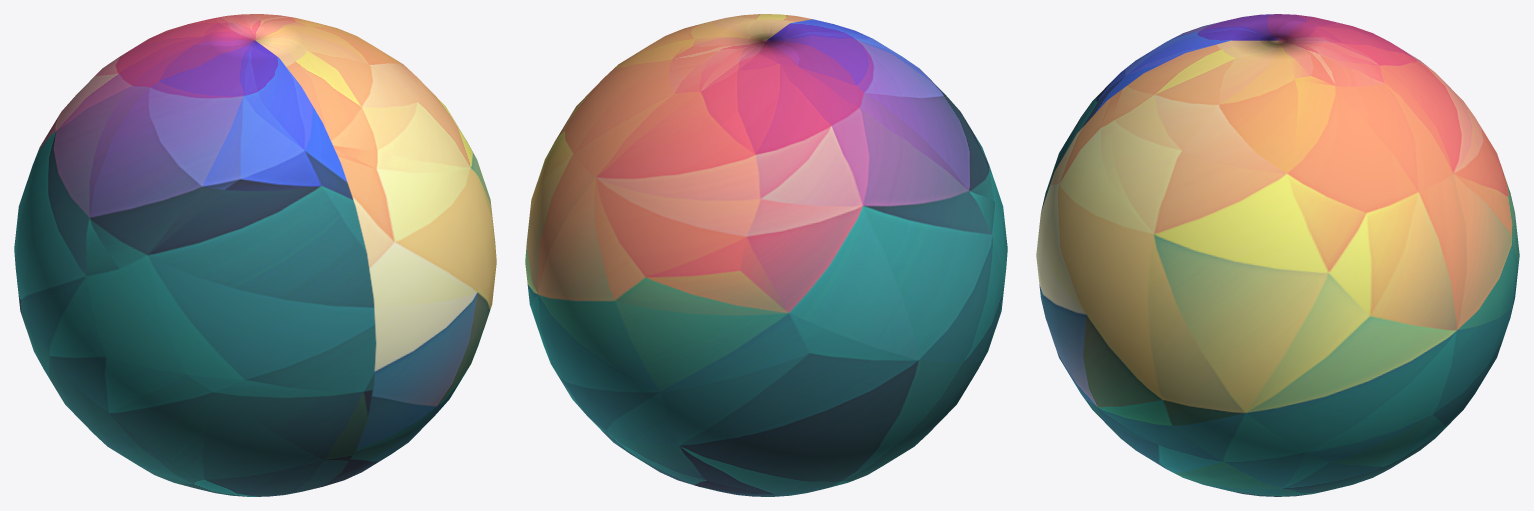
3 views of the same model, side by side, from view 1: azimuth 30°, elevation 25°; view 2: azimuth 150°, elevation 25°; view 3: azimuth 270°, elevation 25° (orthographic).
Visible parts, largest first — view 1: sphere; view 2: sphere; view 3: sphere.
Part boxes in pixels (bbox=[...]): sphere: bbox=[14, 14, 496, 496]; sphere: bbox=[525, 14, 1007, 496]; sphere: bbox=[1036, 14, 1519, 496].
Bounding box in the file's own units: 2 × 1.96 × 2.
Materials: 1 (1 with a texture image).
